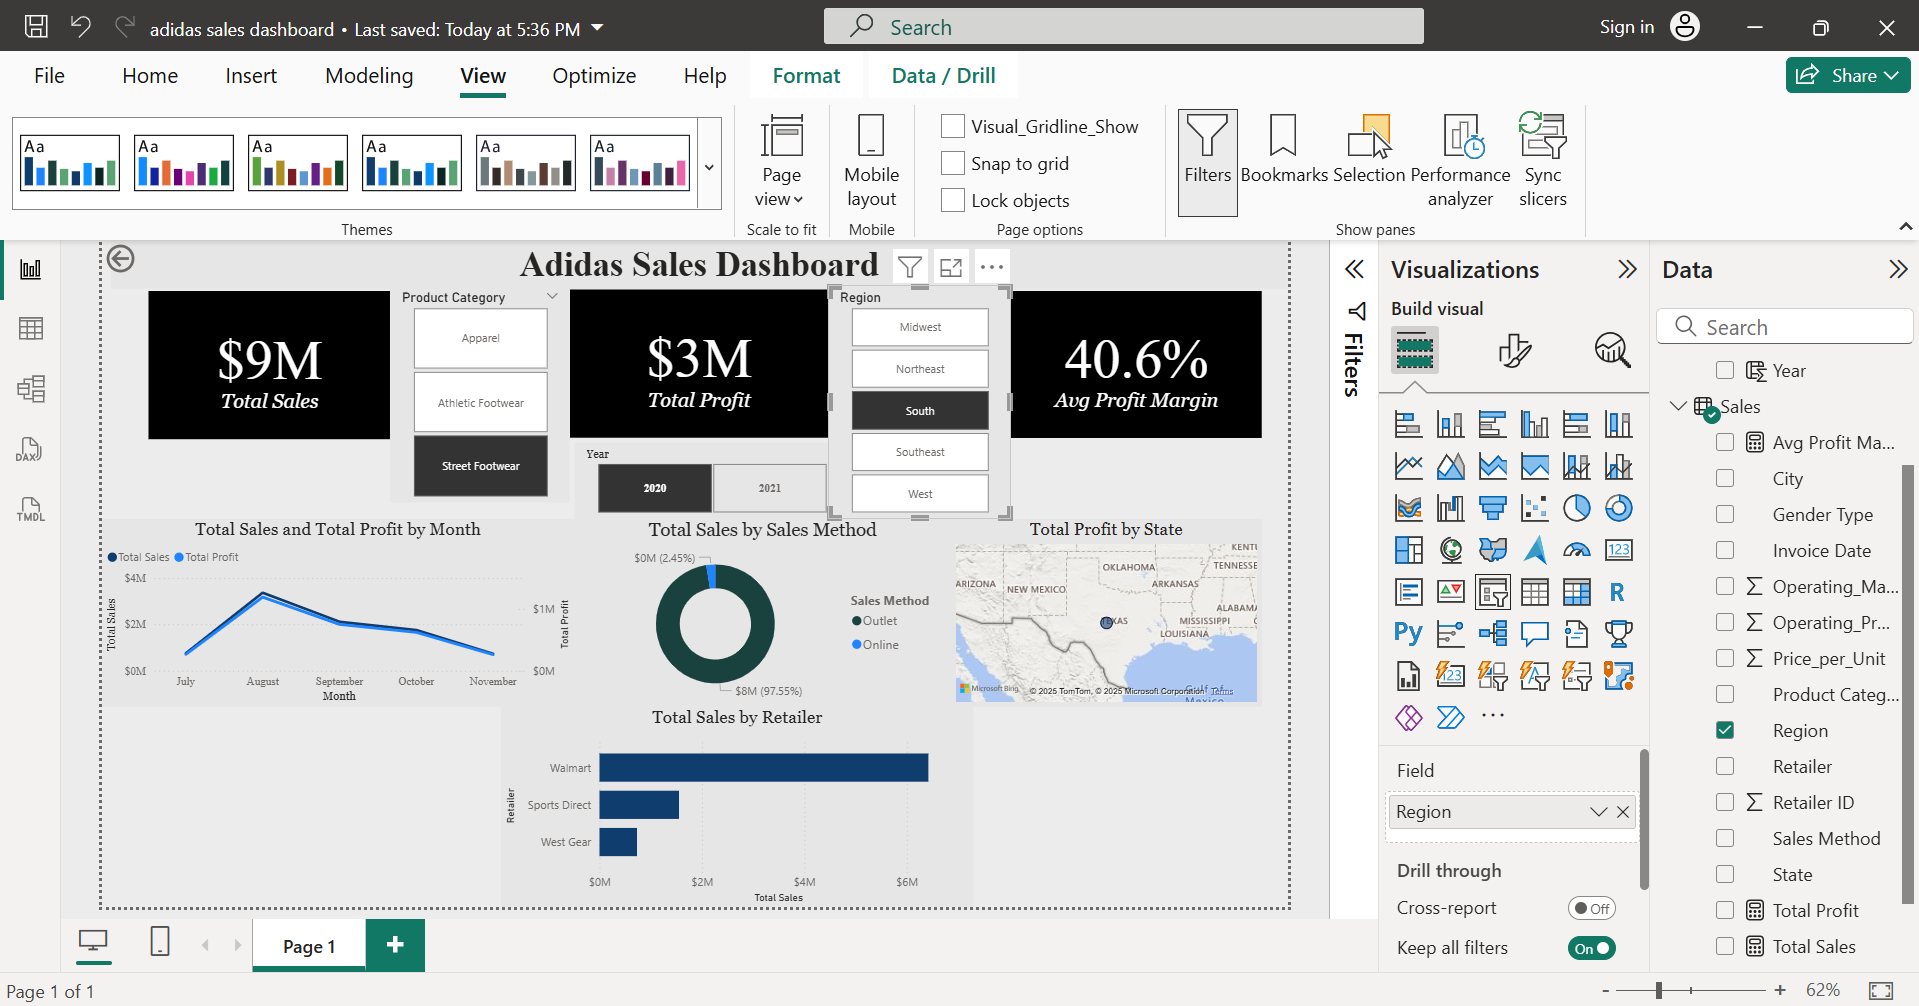

What the dashboard file says about the page in this screenshot:
{"tool":"powerbi","page":{"name":"Page 1","canvas":[1280,720],"ordinal":0},"visuals":[{"type":"textbox","box":[9.4,0,1269.9,52.9],"z":0},{"type":"card","fields":{"Values":["Sales.Total Sales"]},"box":[50.2,55.1,260.7,160.3],"z":1},{"type":"card","fields":{"Values":["Sales.Total Profit"]},"box":[505.2,53.4,278.5,160.3],"z":2},{"type":"card","fields":{"Values":["Sales.Avg Profit Margin"]},"box":[981.3,55.1,270.4,158.7],"z":3},{"type":"slicer","fields":{"Values":["Dates.Year"]},"box":[510.1,218.6,296.3,82.6],"z":4},{"type":"slicer","fields":{"Values":["Sales.Region"]},"box":[783.7,48.6,197.5,252.6],"z":5},{"type":"actionButton","box":[0,0,100,40],"z":6},{"type":"slicer","fields":{"Values":["Sales.Product Category"]},"box":[310.9,48.6,194.3,234.8],"z":7},{"type":"lineChart","fields":{"Category":["Dates.Month"],"Y":["Sales.Total Sales"],"Y2":["Sales.Total Profit"]},"box":[0,301.2,510.1,202.4],"z":8},{"type":"donutChart","fields":{"Category":["Sales.Sales Method"],"Y":["Sales.Total Sales"]},"box":[510.1,301.2,406.4,202.4],"z":9},{"type":"map","fields":{"Category":["Sales.State"],"Size":["Sales.Total Profit"]},"box":[916.5,301.2,335.2,202.4],"z":10},{"type":"barChart","fields":{"Category":["Sales.Retailer"],"Y":["Sales.Total Sales"]},"box":[430.7,503.6,510.1,217],"z":11}]}

Visuals, with their boxes on the page's 1280x720 design canvas (x1, y1, x2, y2). These are canvas units, not pixel positions in the 1919x1006 screenshot, which may show the page scaled, cropped or inside an application window:
textbox: [left=9, top=0, right=1279, bottom=53]
card - Sales.Total Sales: [left=50, top=55, right=311, bottom=215]
card - Sales.Total Profit: [left=505, top=53, right=784, bottom=214]
card - Sales.Avg Profit Margin: [left=981, top=55, right=1252, bottom=214]
slicer - Dates.Year: [left=510, top=219, right=806, bottom=301]
slicer - Sales.Region: [left=784, top=49, right=981, bottom=301]
actionButton: [left=0, top=0, right=100, bottom=40]
slicer - Sales.Product Category: [left=311, top=49, right=505, bottom=283]
lineChart - Dates.Month x Sales.Total Sales: [left=0, top=301, right=510, bottom=504]
donutChart - Sales.Sales Method x Sales.Total Sales: [left=510, top=301, right=916, bottom=504]
map - Sales.State x Sales.Total Profit: [left=916, top=301, right=1252, bottom=504]
barChart - Sales.Retailer x Sales.Total Sales: [left=431, top=504, right=941, bottom=721]
